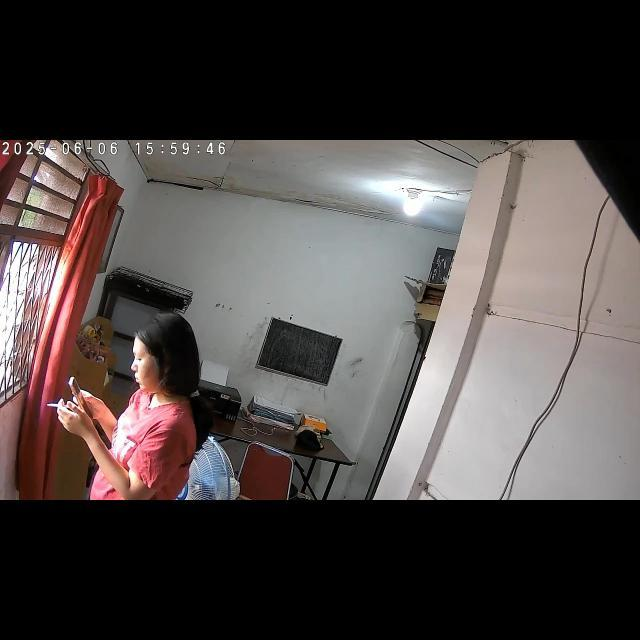rokok: (43, 398, 73, 410)
